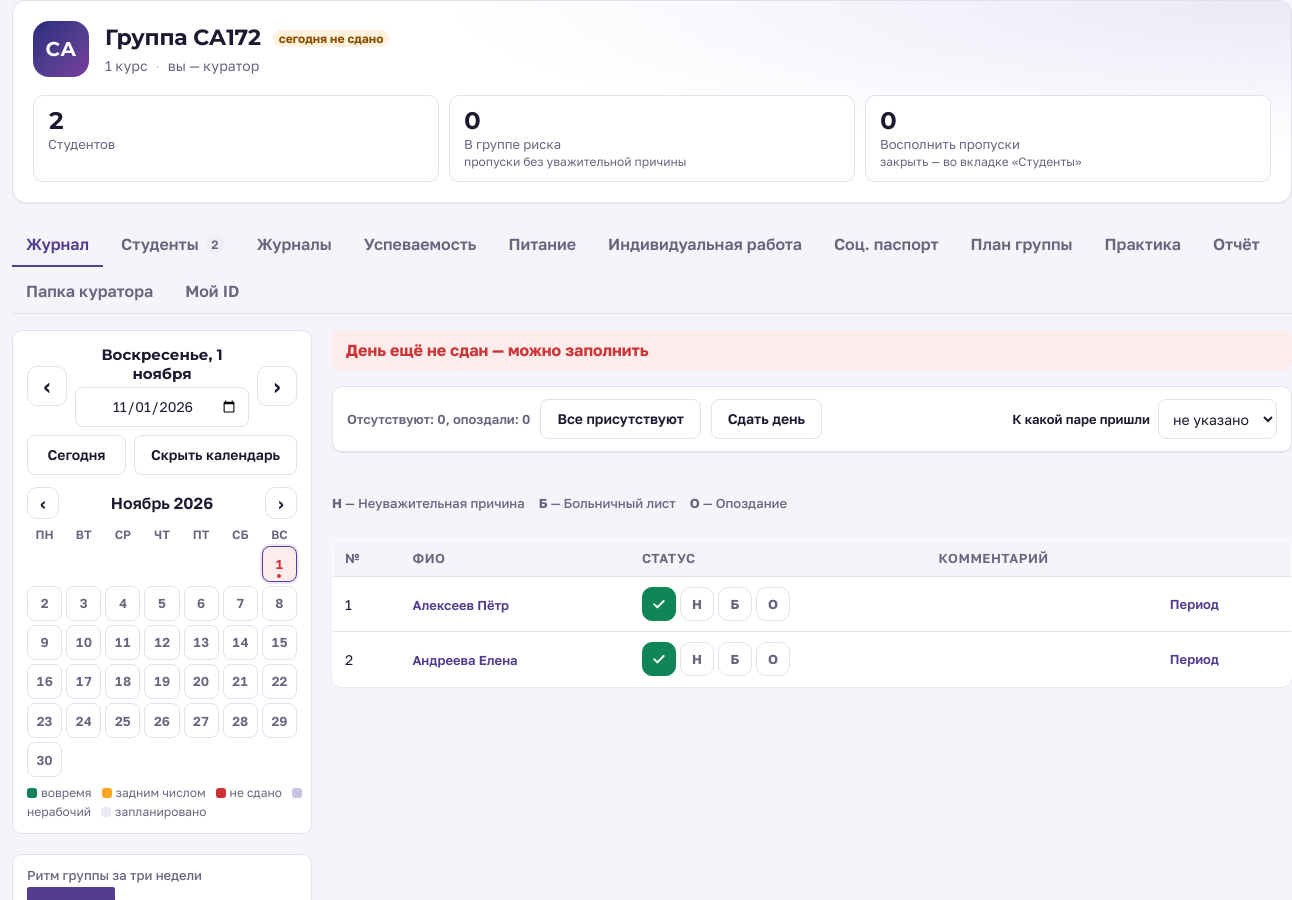
CuratorGroupPage — журнал дня › отметка студента увеличивает счётчик отсутствующих и уходит в «Сдать день»
expect the link "Алексеев Пётр" is shown: met, box [408,595,513,615]
What coordinates should you click on to do the following:
click the button "Н" in the row of "Алексеев Пётр"
I would click on:
 (697, 604)
Its box is [680,587,714,621].
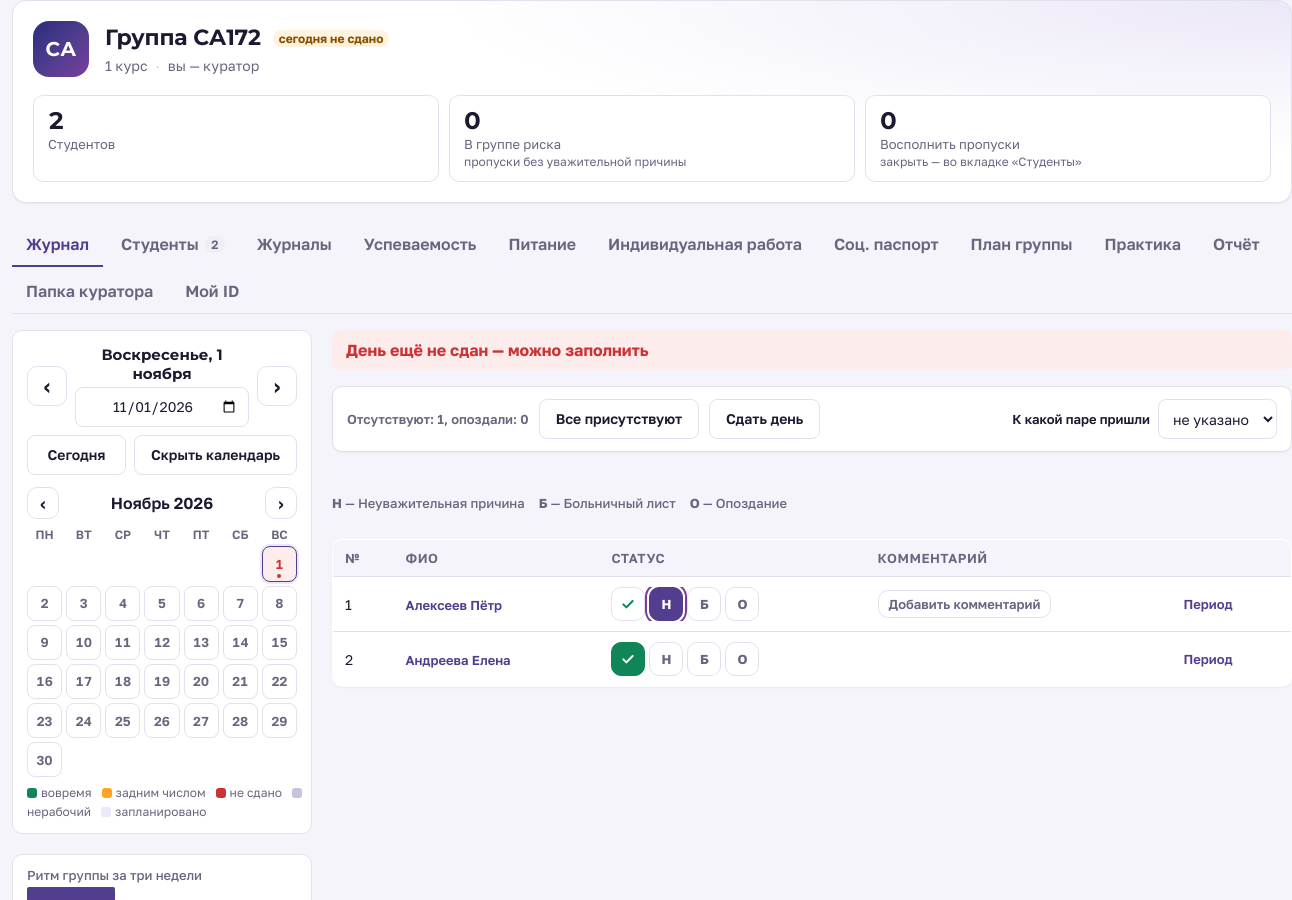
expect the text "Отсутствуют: 1, опоздали: 0" is shown: met, box [347,411,529,427]
What coordinates should you click on to do the following:
click the button "Сдать день"
I would click on:
 (765, 419)
Its box is [709,399,820,439].
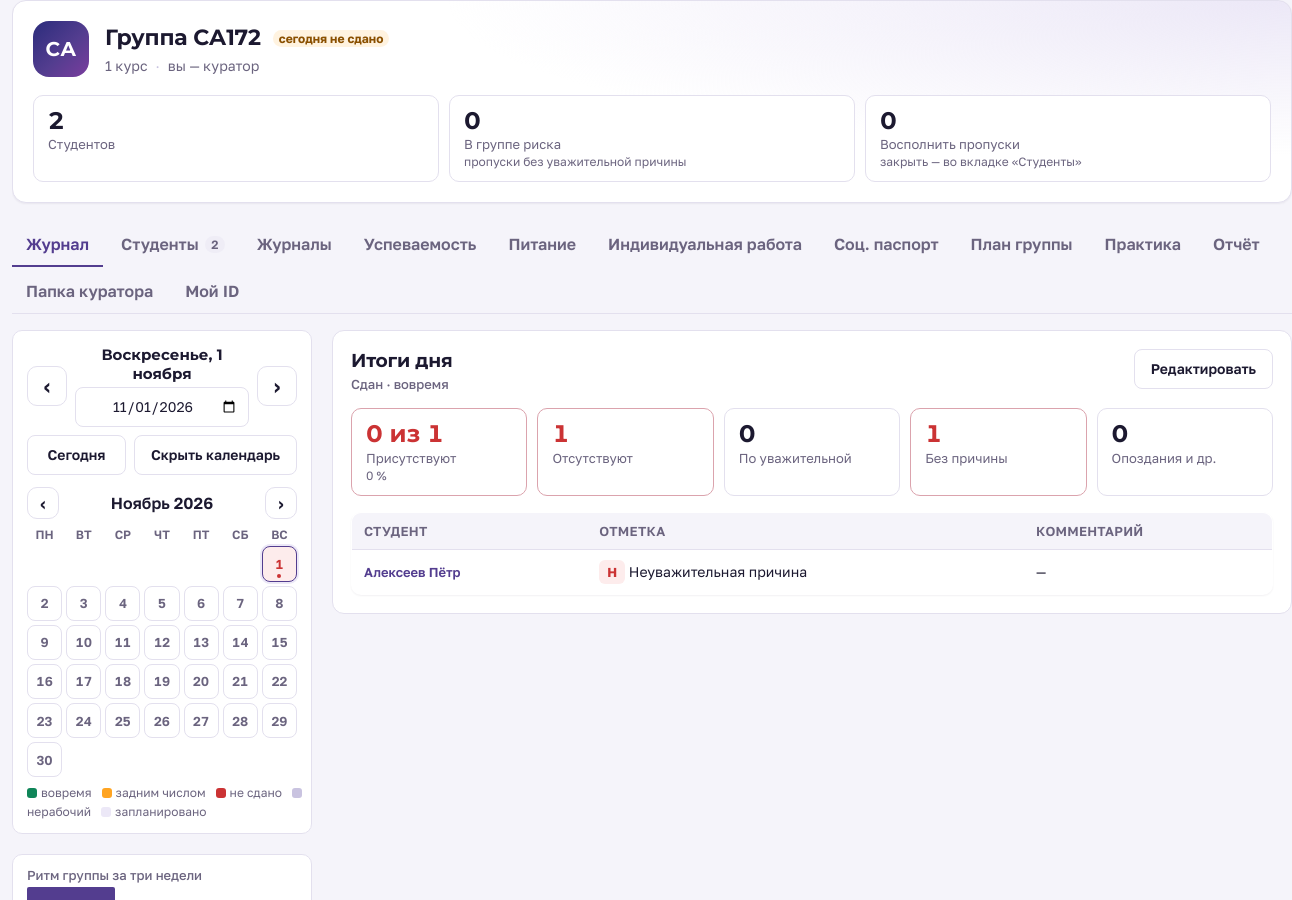
expect the element "Итоги дня" is shown: met, box [332,330,1291,614]
